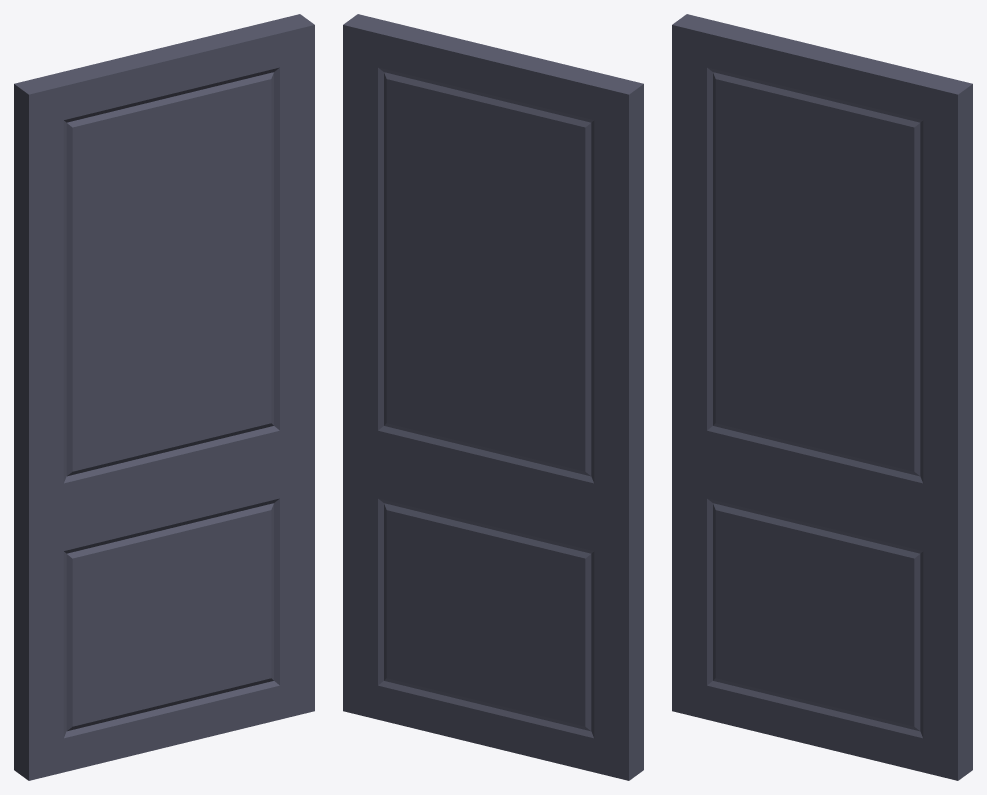
Rendered from Door2_C4.fbx.
The picture shows the model from 3 angles, left to right: view 1: azimuth 30°, elevation 25°; view 2: azimuth 150°, elevation 25°; view 3: azimuth 330°, elevation 25°; orthographic projection.
Parts seen in each view (by area): view 1: Door2_C4; view 2: Door2_C4; view 3: Door2_C4.
Part boxes in pixels (x1,y1,x2,y2): Door2_C4: (14, 14, 314, 780); Door2_C4: (343, 14, 643, 780); Door2_C4: (672, 14, 972, 780).
Bounding box in the file's own units: 89 × 204 × 8.
